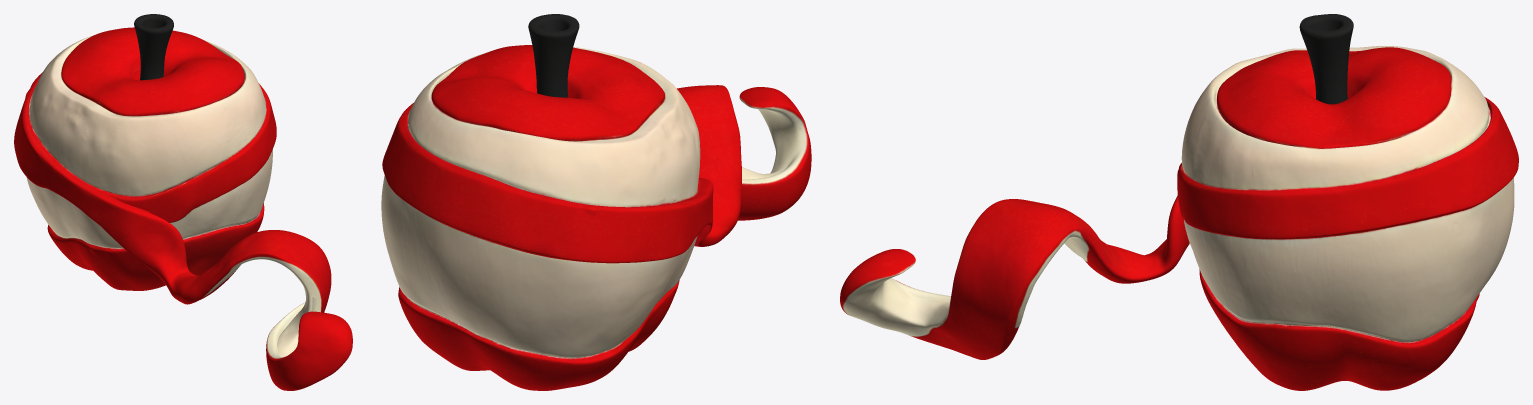
Rendered from home.glb.
3 renders of one model, left to right at view 1: azimuth 30°, elevation 25°; view 2: azimuth 150°, elevation 25°; view 3: azimuth 270°, elevation 25°, orthographic. The views are drawn at different scales.
Parts seen in each view (by area): view 1: model; view 2: model; view 3: model.
Boxes of the visible parts, <box> form: model: <box>14,14,352,390</box>; model: <box>381,14,811,390</box>; model: <box>840,14,1518,390</box>.
Bounding box in the file's own units: 0.0908 × 0.1 × 0.183.
Materials: 1 (1 with a texture image).
